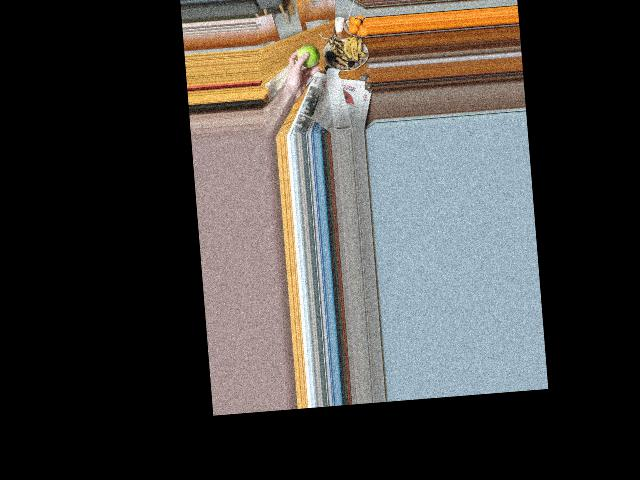apple: (299, 42, 320, 70)
